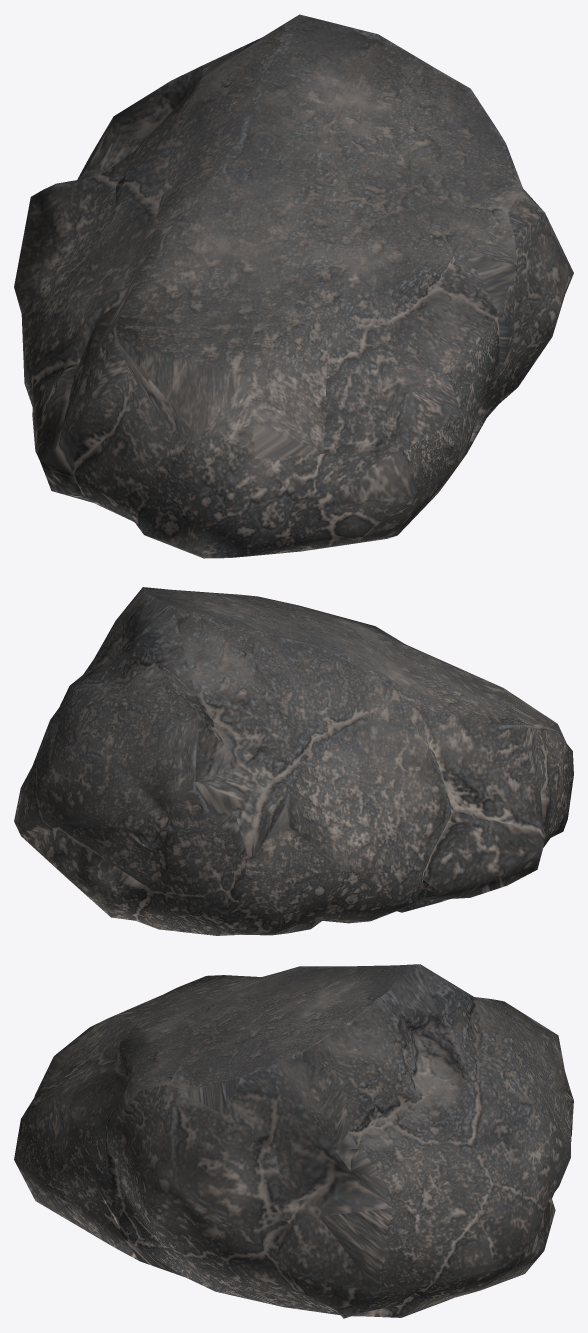
File: Rock_big_02_GREY.fbx
The picture shows the model from 3 angles, top to bottom: view 1: azimuth 30°, elevation 25°; view 2: azimuth 150°, elevation 25°; view 3: azimuth 270°, elevation 25°; orthographic projection. The views are drawn at different scales.
Parts seen in each view (by area): view 1: Rock_big_02_GREY; view 2: Rock_big_02_GREY; view 3: Rock_big_02_GREY.
Boxes of the visible parts, x1=… form: Rock_big_02_GREY: x1=14, y1=14, x2=573, y2=558; Rock_big_02_GREY: x1=14, y1=587, x2=573, y2=935; Rock_big_02_GREY: x1=14, y1=964, x2=573, y2=1318.
Size of the model in its own units: 1.45 by 0.8927 by 1.46.
Materials: 1 (1 with a texture image).
